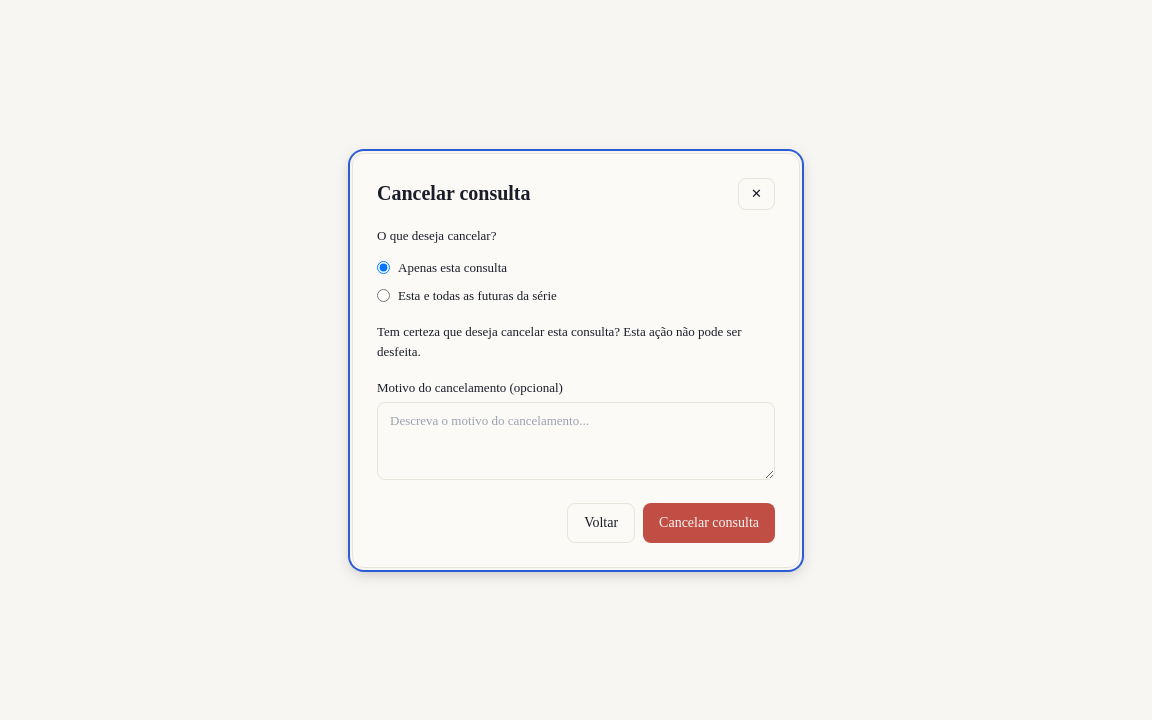
CancelAppointmentDialog › cancellation scope › counts the affected occurrences when the series scope is chosen
The width and height of the screenshot is (1152, 720).
Click the radio button with test id "cancel-dialog-scope-series".
click(384, 296)  # box [377,289,390,302]
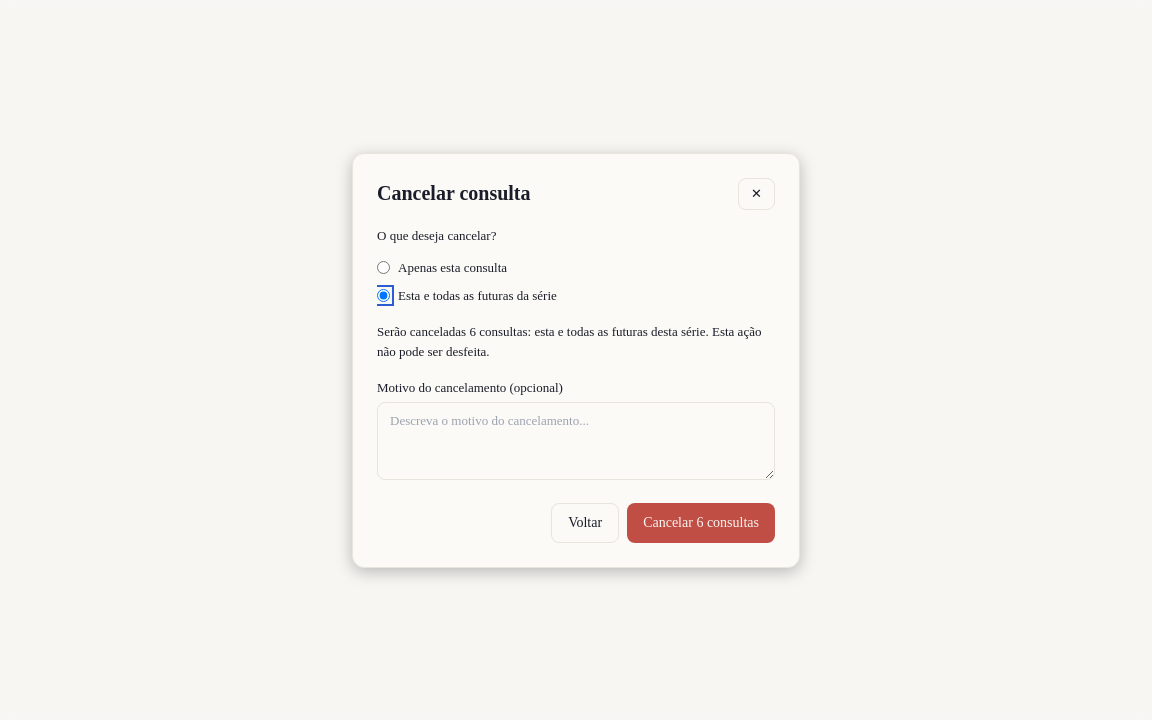
Result: the text with test id "cancel-dialog-scope-summary" shows "Serão canceladas 6 consultas" at [377,324,761,358]
Result: the button with test id "cancel-dialog-confirm" reads "Cancelar 6 consultas" at [627,502,775,542]
